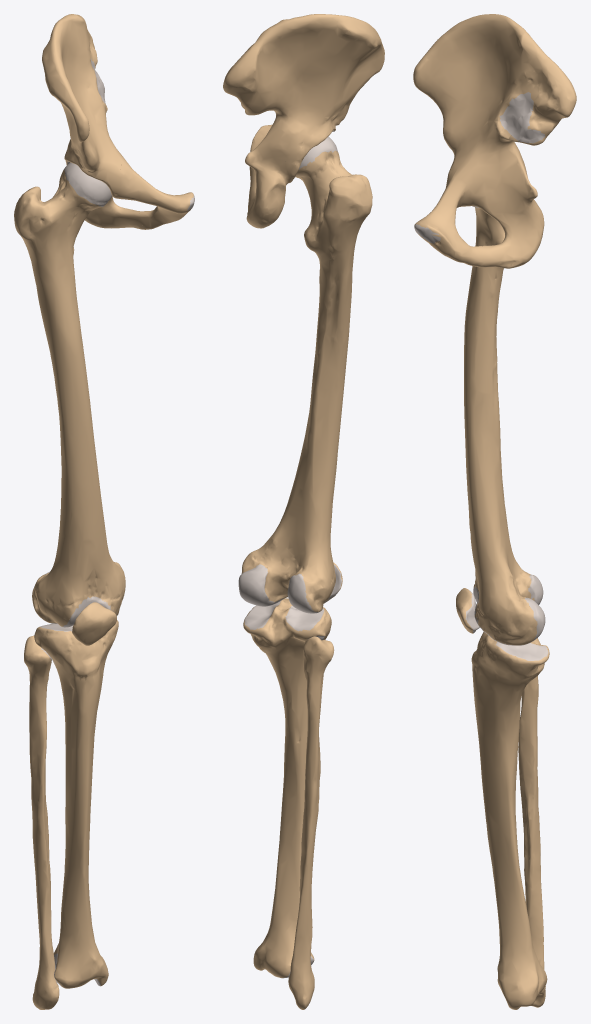
The model's file is bones.glb.
3 renders of one model, left to right at view 1: azimuth 30°, elevation 25°; view 2: azimuth 150°, elevation 25°; view 3: azimuth 270°, elevation 25°, orthographic.
Visible parts, largest first — view 1: Femur.r, Tibia.r, Hip bone.r, Fibula.r, Patella.r; view 2: Femur.r, Hip bone.r, Tibia.r, Fibula.r; view 3: Hip bone.r, Femur.r, Tibia.r, Fibula.r, Patella.r.
Part boxes in pixels (x1,y1,x2,y2): Femur.r: (14, 162, 125, 627); Tibia.r: (34, 620, 118, 988); Hip bone.r: (42, 14, 194, 229); Fibula.r: (24, 635, 59, 1009); Patella.r: (72, 602, 116, 645); Femur.r: (238, 136, 372, 613); Hip bone.r: (223, 14, 384, 228); Tibia.r: (243, 598, 331, 978); Fibula.r: (288, 636, 334, 1009); Hip bone.r: (413, 14, 576, 268); Femur.r: (464, 206, 545, 645); Tibia.r: (471, 632, 549, 1009); Fibula.r: (518, 638, 545, 1007); Patella.r: (456, 588, 479, 633).
Bounding box in the file's own units: 0.1457 × 0.9568 × 0.1429.
